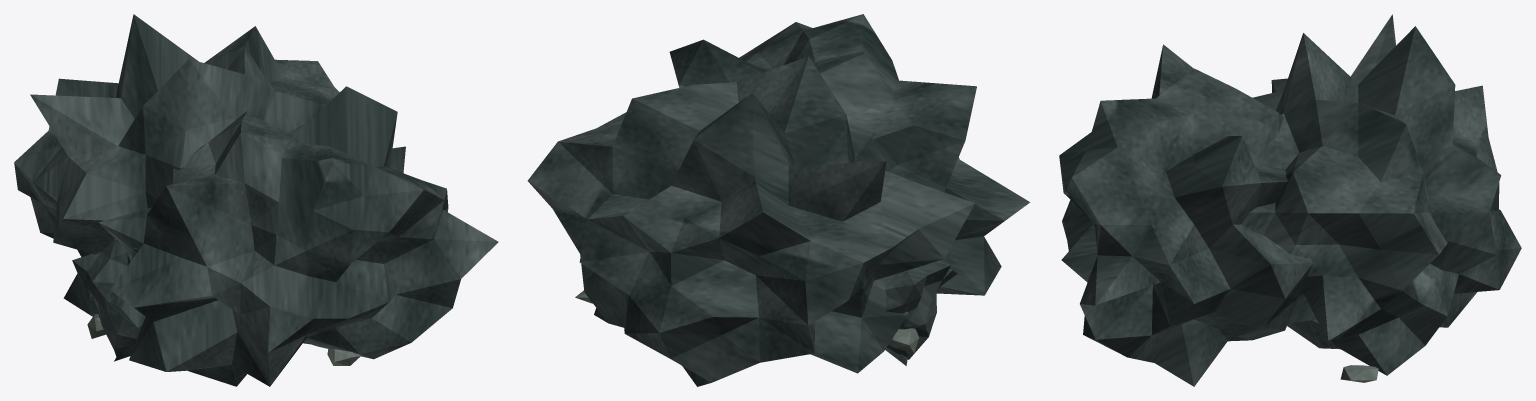
File: 0017_boulder_17.glb
The picture shows the model from 3 angles, left to right: view 1: azimuth 30°, elevation 25°; view 2: azimuth 150°, elevation 25°; view 3: azimuth 270°, elevation 25°; orthographic projection. The views are drawn at different scales.
Parts seen in each view (by area): view 1: stone_dark, stone; view 2: stone_dark, stone; view 3: stone_dark, stone.
Boxes of the visible parts, bbox=[...] form: stone_dark: bbox=[14, 14, 498, 386]; stone: bbox=[87, 314, 360, 365]; stone_dark: bbox=[527, 14, 1030, 386]; stone: bbox=[575, 290, 919, 353]; stone_dark: bbox=[1059, 14, 1521, 386]; stone: bbox=[1340, 365, 1378, 382].
Bounding box in the file's own units: 2.75 × 2.1 × 2.98.
Materials: 2 (2 with a texture image).
